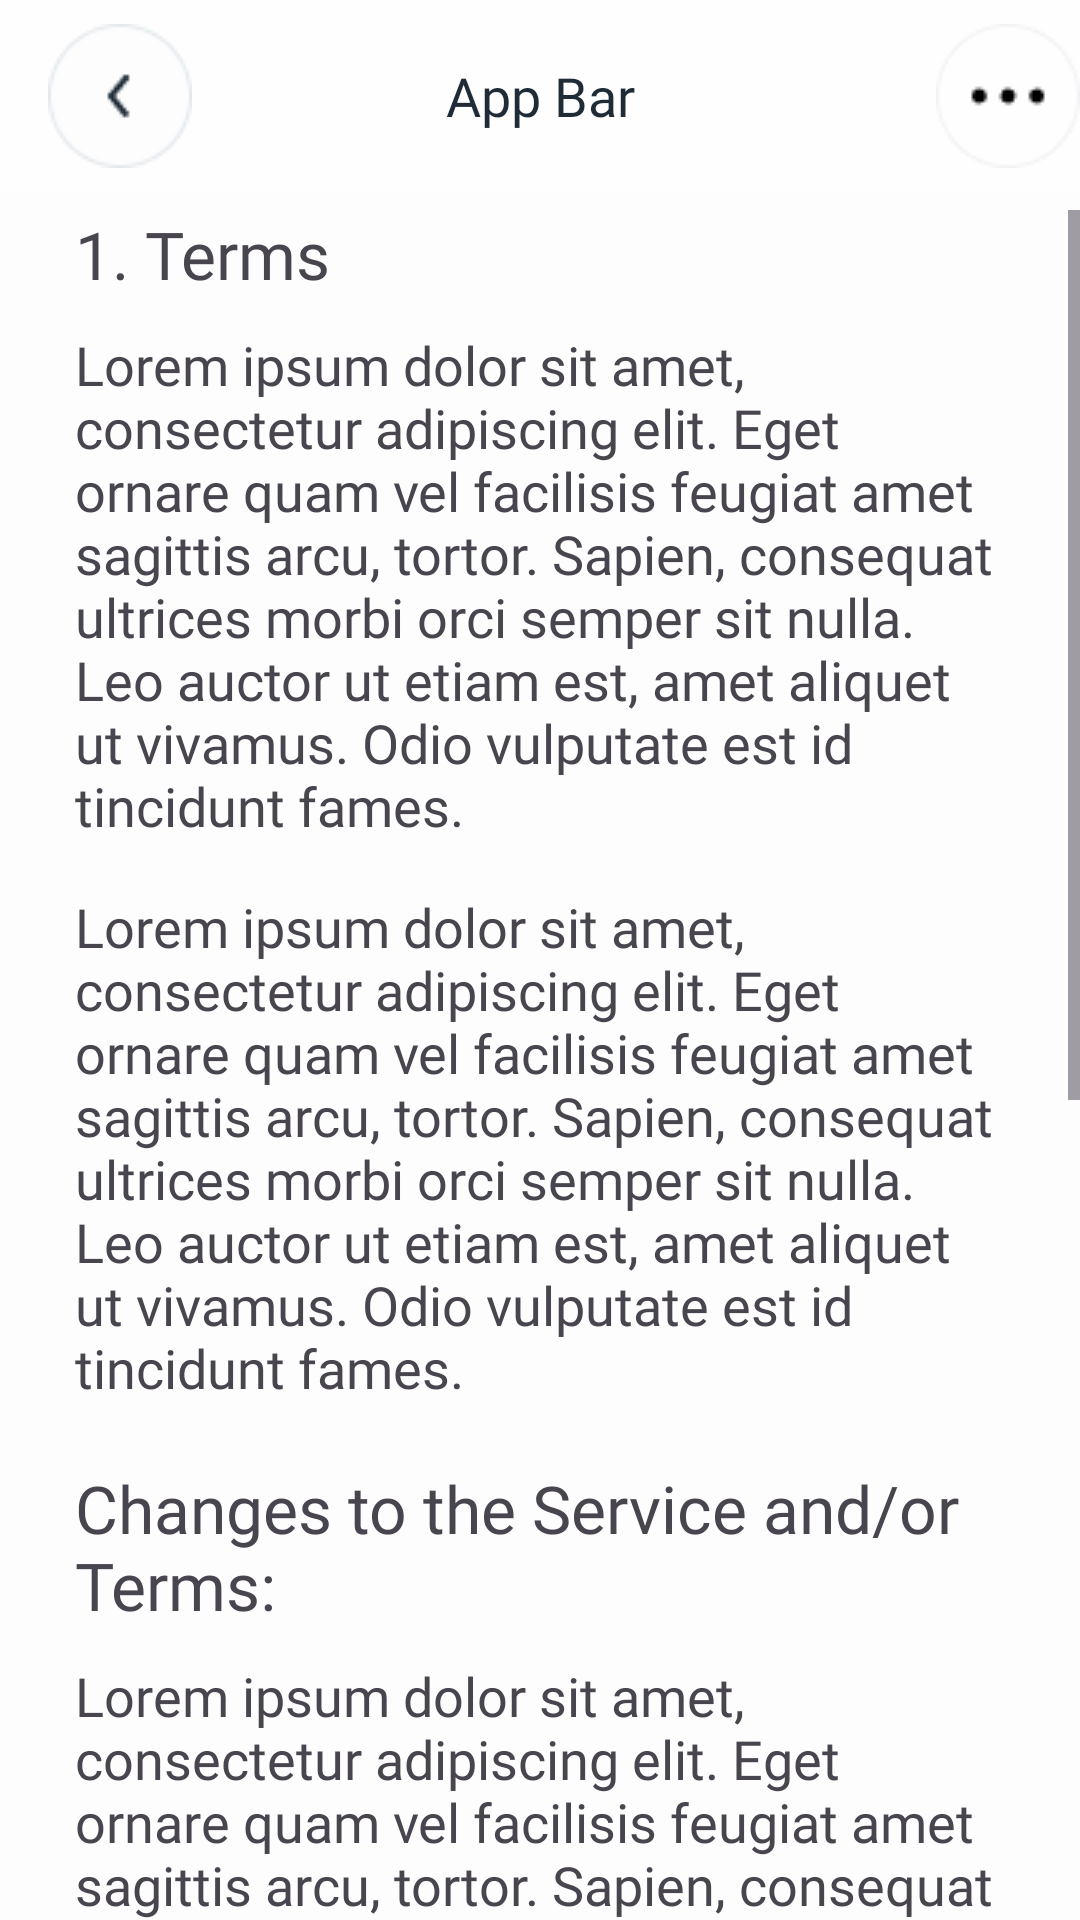

Icons on this 1080x1920 Android screen, each with the point to tap as [x,y]:
arrow back: [120,96]
three dot: [1008,96]
